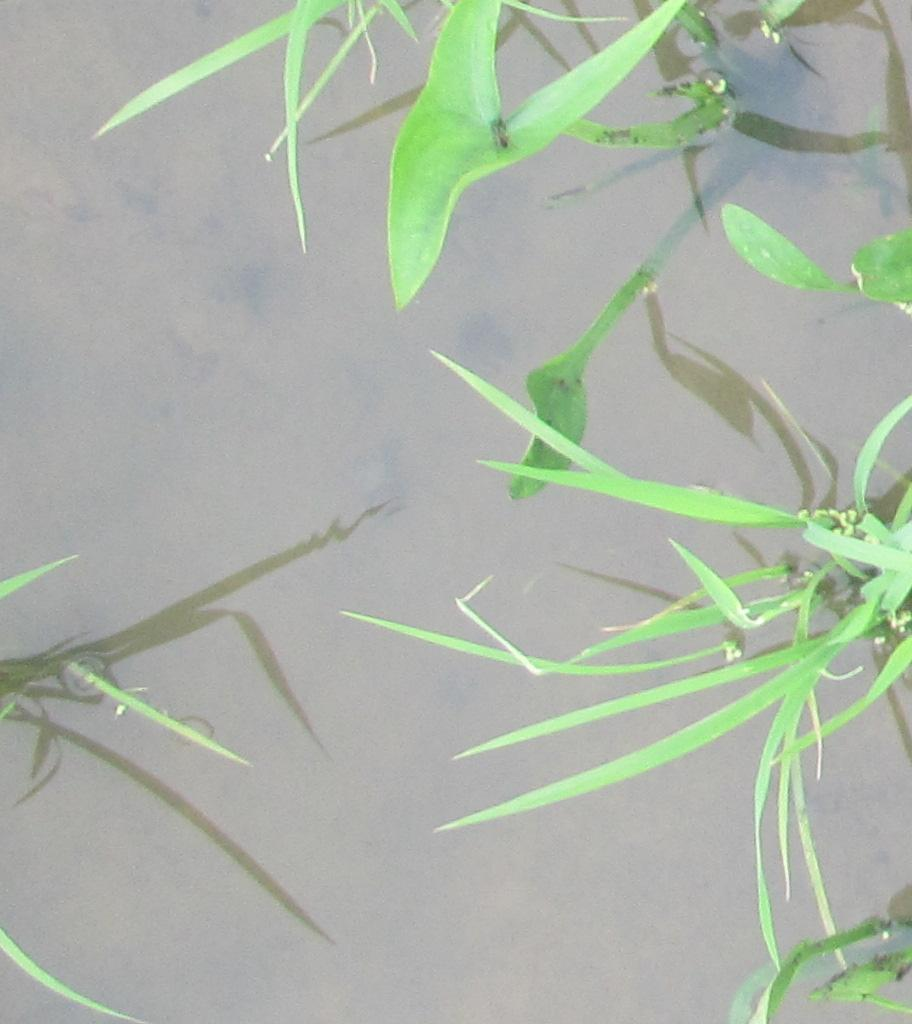Weed: (396, 8, 547, 305), (713, 200, 912, 308)
